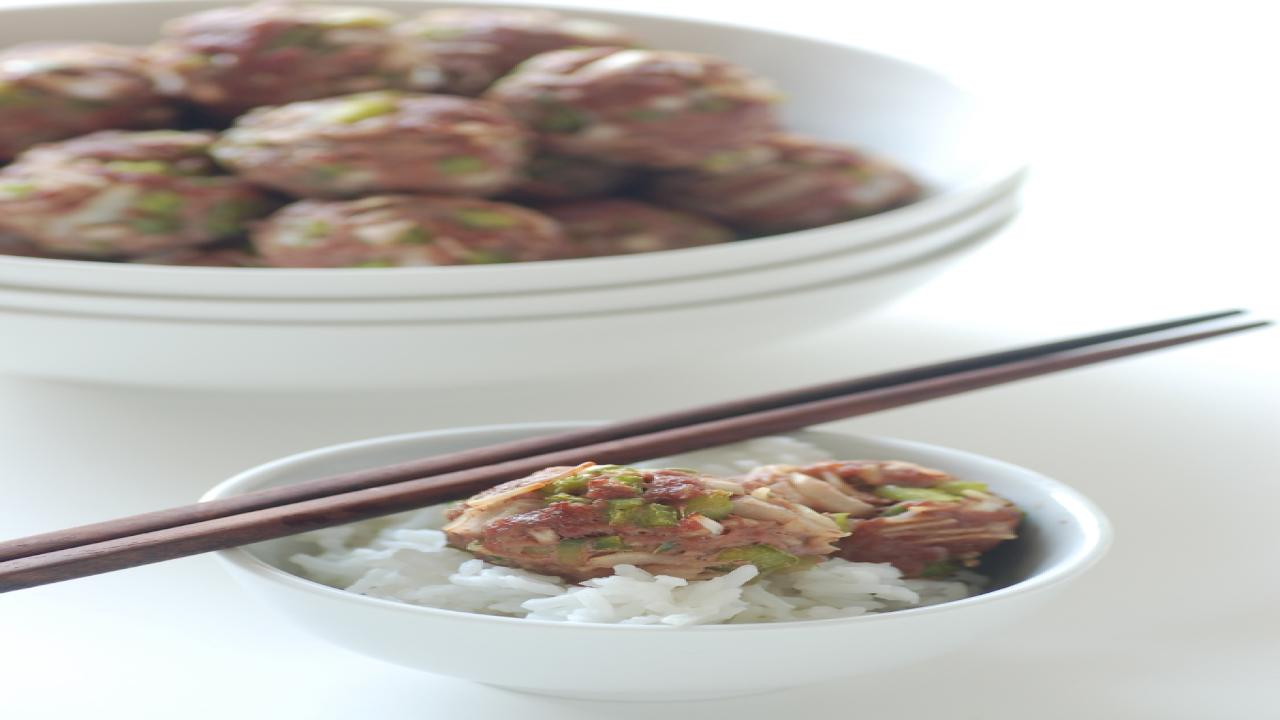chopstick: (3, 306, 1275, 600)
